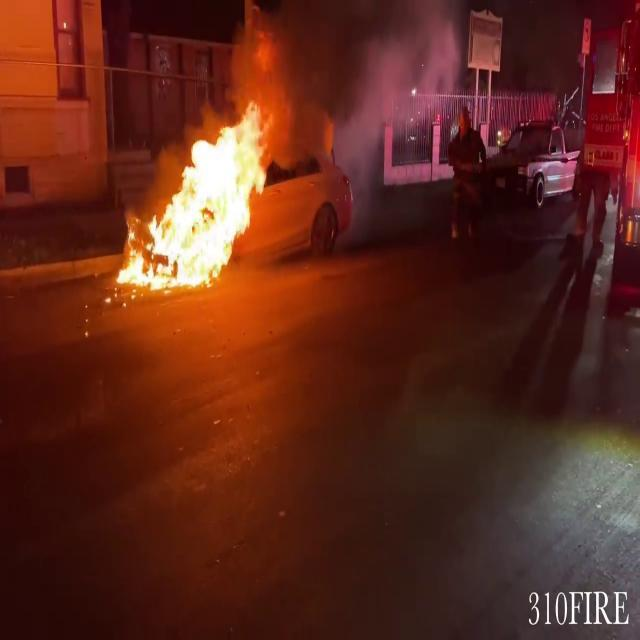Fire: (113, 84, 278, 294)
Smoke: (236, 0, 454, 139)
